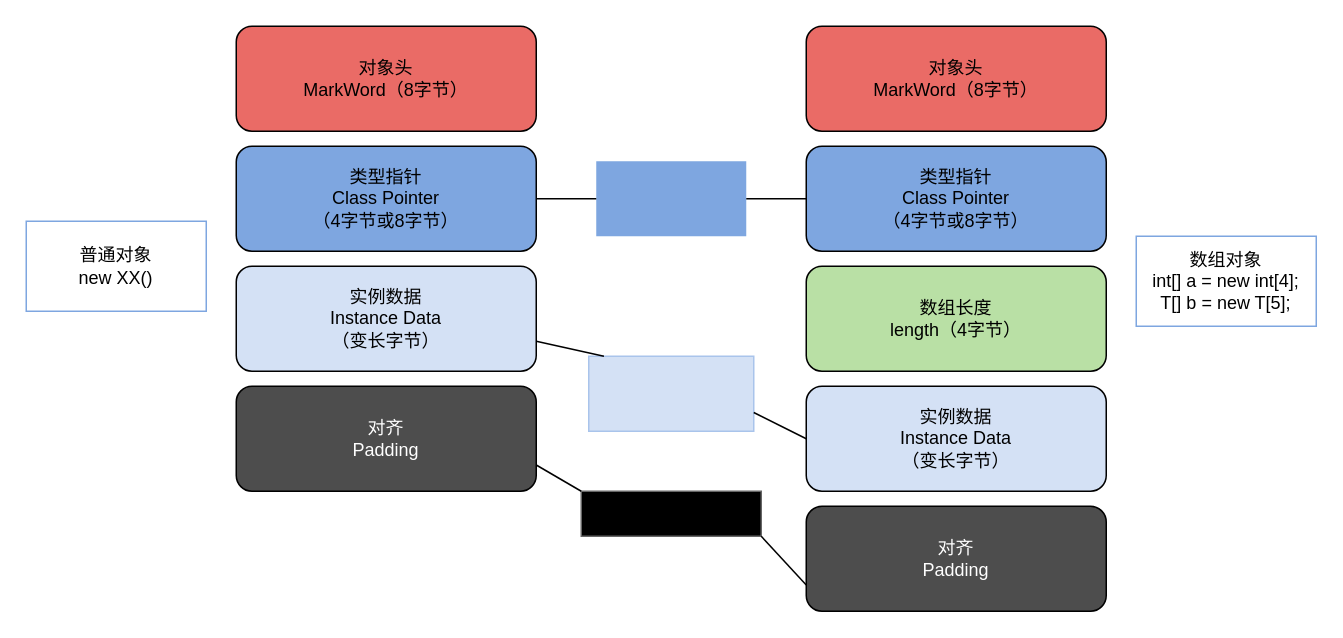
Image size: 1343x638. Some labels were removed from this diagram. The shapes that lost their labels are listed below. From the top down, each one's centre as x and y in pixels, then its label:
At (x=671, y=198): "指向class的指针，标明是哪个class类型".
At (x=670, y=393): "int，占4个字节 long，占8个字节 ....".
At (x=670, y=513): "总体长度是否可以被8整除，不行则补足".
